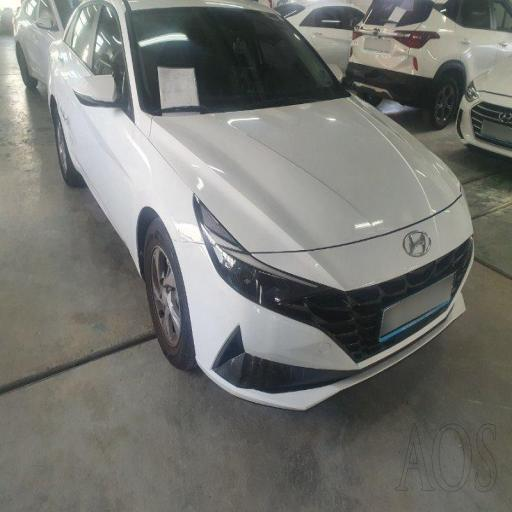dent: (142, 134, 345, 315)
